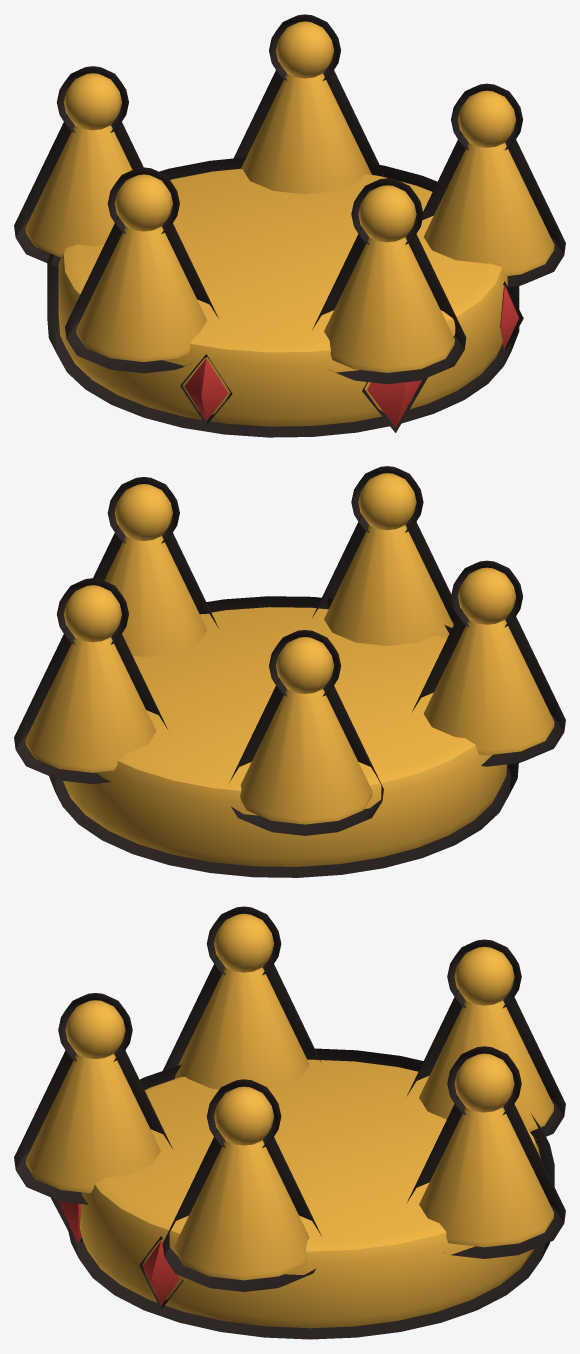
File: hat_crown.fbx
3 renders of one model, top to bottom at view 1: azimuth 30°, elevation 25°; view 2: azimuth 150°, elevation 25°; view 3: azimuth 270°, elevation 25°, orthographic. The views are drawn at different scales.
Visible parts, largest first — view 1: hat_crown_C_F2B33D, hat_crown_Outline, hat_crown_C_D93B36; view 2: hat_crown_C_F2B33D, hat_crown_Outline; view 3: hat_crown_C_F2B33D, hat_crown_Outline, hat_crown_C_D93B36.
Boxes of the visible parts, <box> form: hat_crown_C_F2B33D: <box>25,21,554,426</box>; hat_crown_Outline: <box>14,14,565,437</box>; hat_crown_C_D93B36: <box>184,285,518,427</box>; hat_crown_C_F2B33D: <box>25,473,554,866</box>; hat_crown_Outline: <box>14,466,565,877</box>; hat_crown_C_F2B33D: <box>26,913,553,1328</box>; hat_crown_Outline: <box>14,906,565,1339</box>; hat_crown_C_D93B36: <box>58,1200,179,1305</box>.
Size of the model in its own units: 0.665 by 0.3254 by 0.6417.
